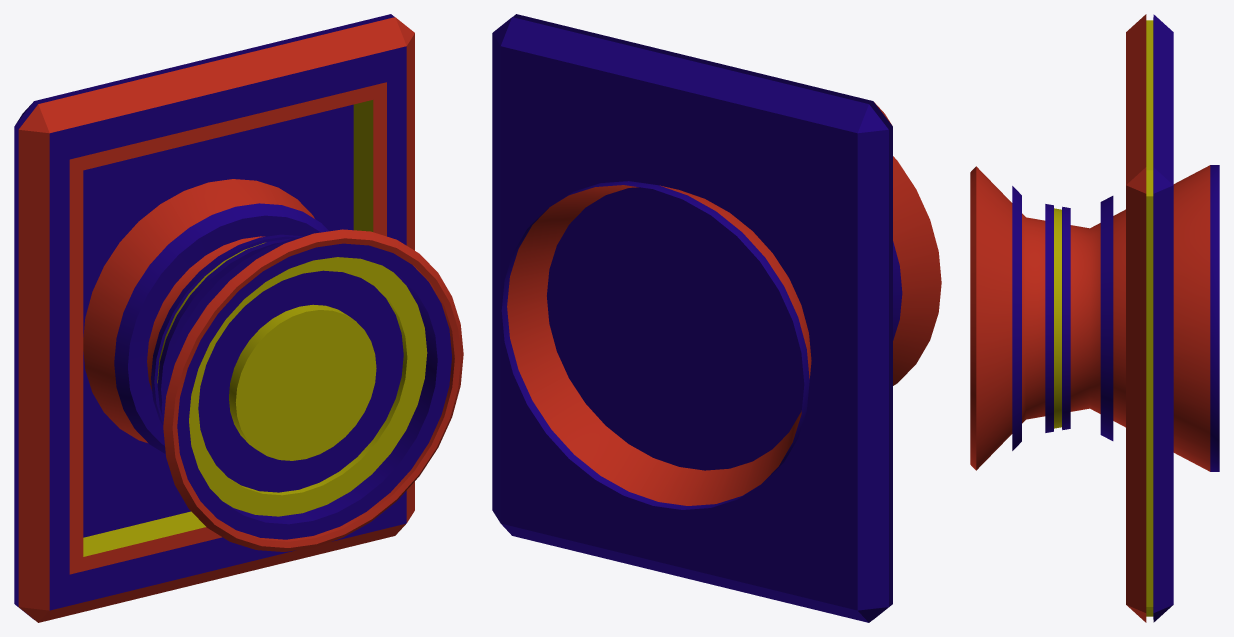
Rendered from Cannon Trap.fbx.
The picture shows the model from 3 angles, left to right: view 1: azimuth 30°, elevation 25°; view 2: azimuth 150°, elevation 25°; view 3: azimuth 270°, elevation 25°; orthographic projection. The views are drawn at different scales.
Parts seen in each view (by area): view 1: Cannon Trap; view 2: Cannon Trap; view 3: Cannon Trap.
Part boxes in pixels (x1,y1,x2,y2): Cannon Trap: (14,14,463,622); Cannon Trap: (492,14,941,622); Cannon Trap: (970,14,1219,622).
Size of the model in its own units: 200 by 250 by 124.
